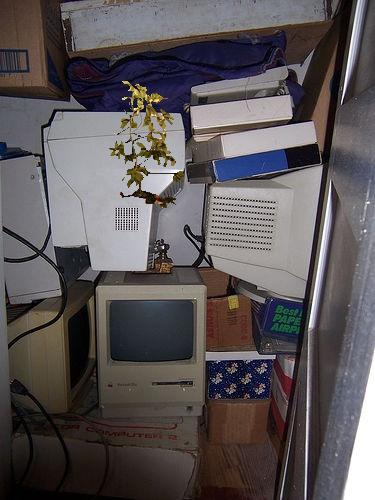tampered: (110, 82, 184, 208)
